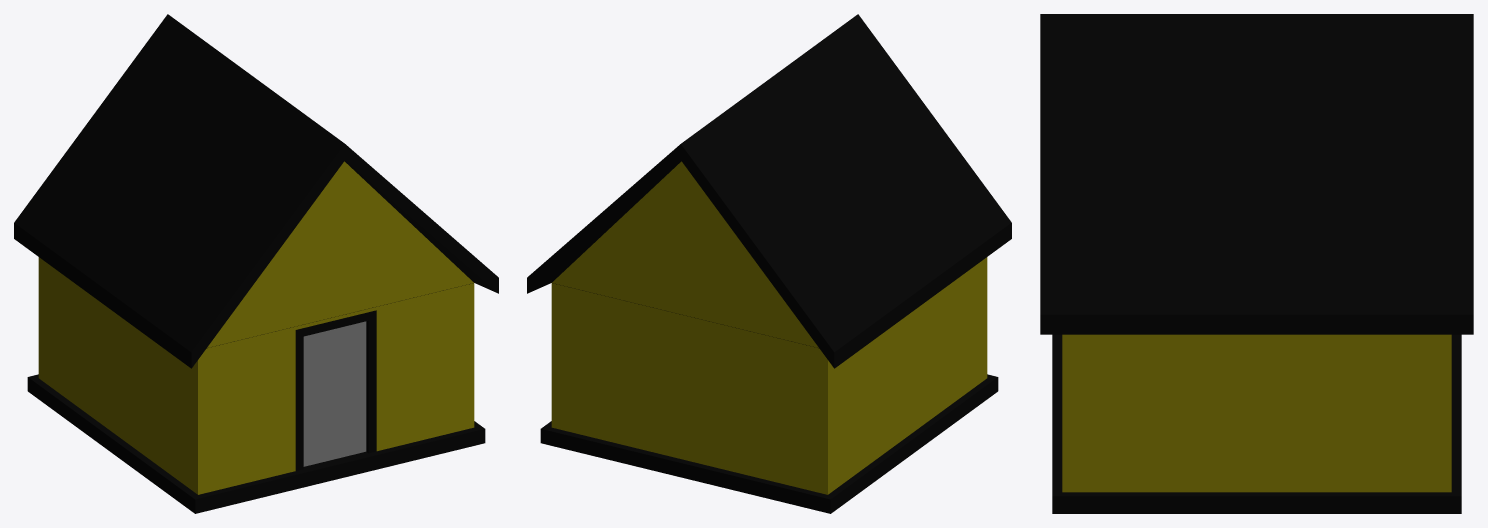
File: Shed #3.fbx
The picture shows the model from 3 angles, left to right: view 1: azimuth 30°, elevation 25°; view 2: azimuth 150°, elevation 25°; view 3: azimuth 270°, elevation 25°; orthographic projection. The views are drawn at different scales.
Parts seen in each view (by area): view 1: building_001; view 2: building_001; view 3: building_001.
Boxes of the visible parts, <box> form: building_001: <box>14,14,498,513</box>; building_001: <box>527,14,1011,513</box>; building_001: <box>1040,14,1473,513</box>.
Bounding box in the file's own units: 379 × 399 × 379.
